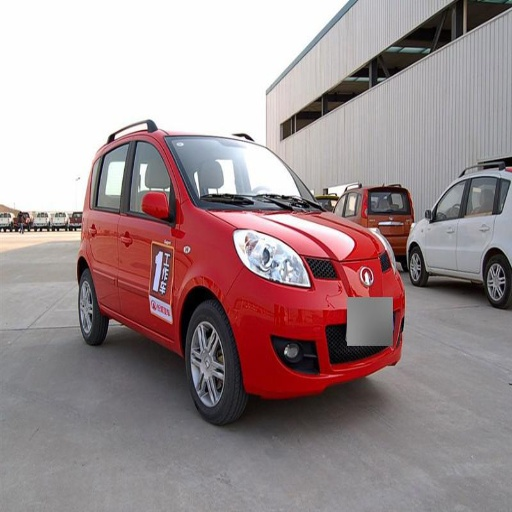front_bumper: (226, 260, 406, 395)
front_glass: (169, 136, 316, 210)
front_right_door: (118, 135, 175, 334)
front_right_light: (233, 229, 312, 287)
